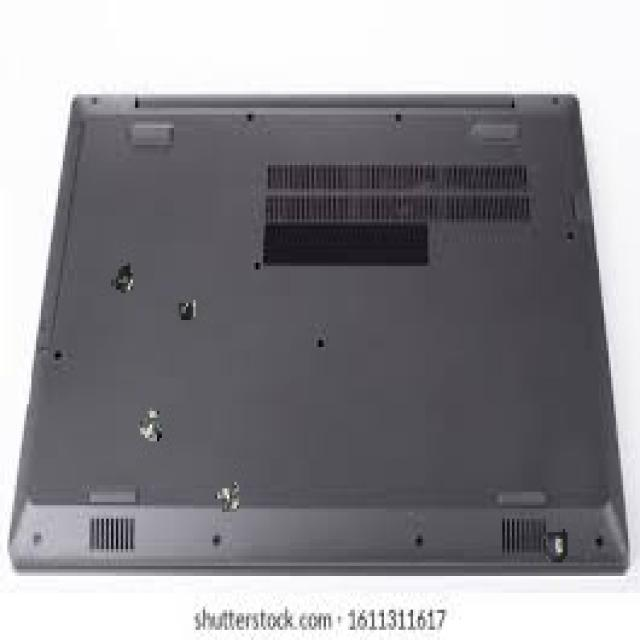lock: (109, 259, 133, 293), (215, 478, 239, 512), (138, 408, 162, 441), (174, 290, 198, 323)
missing_screw: (539, 522, 568, 563)
